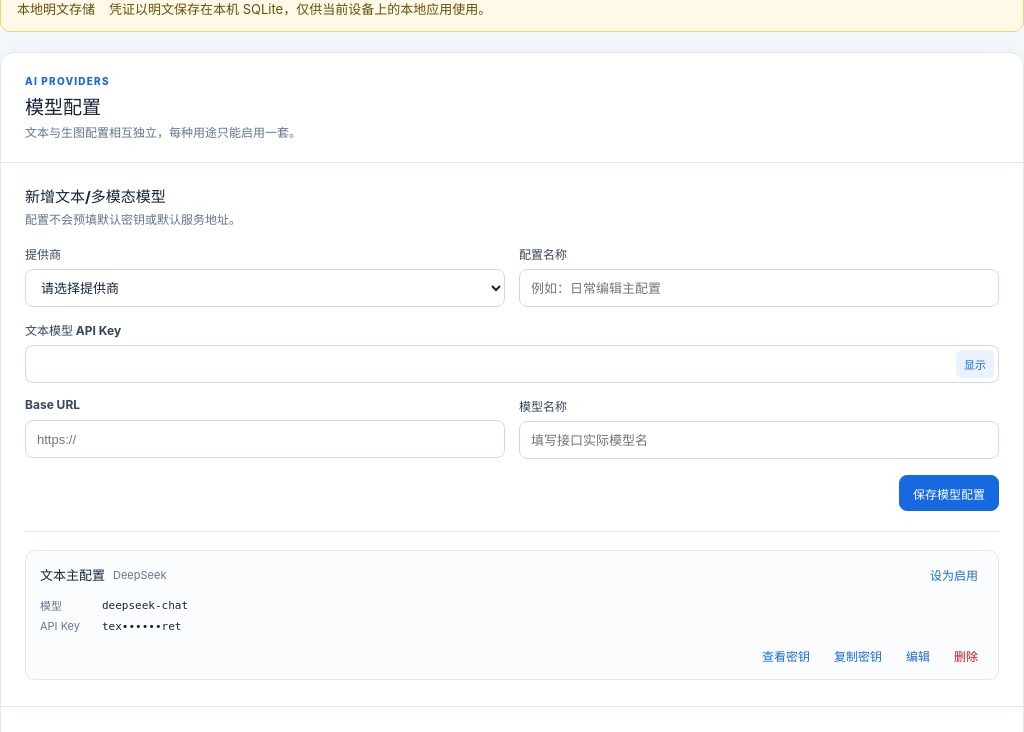
Test case: settings page › switches active text and image configurations independently
Click the button with aria-label "启用 文本主配置".
click(954, 574)  # box [924,565,984,584]
(page scrolled)
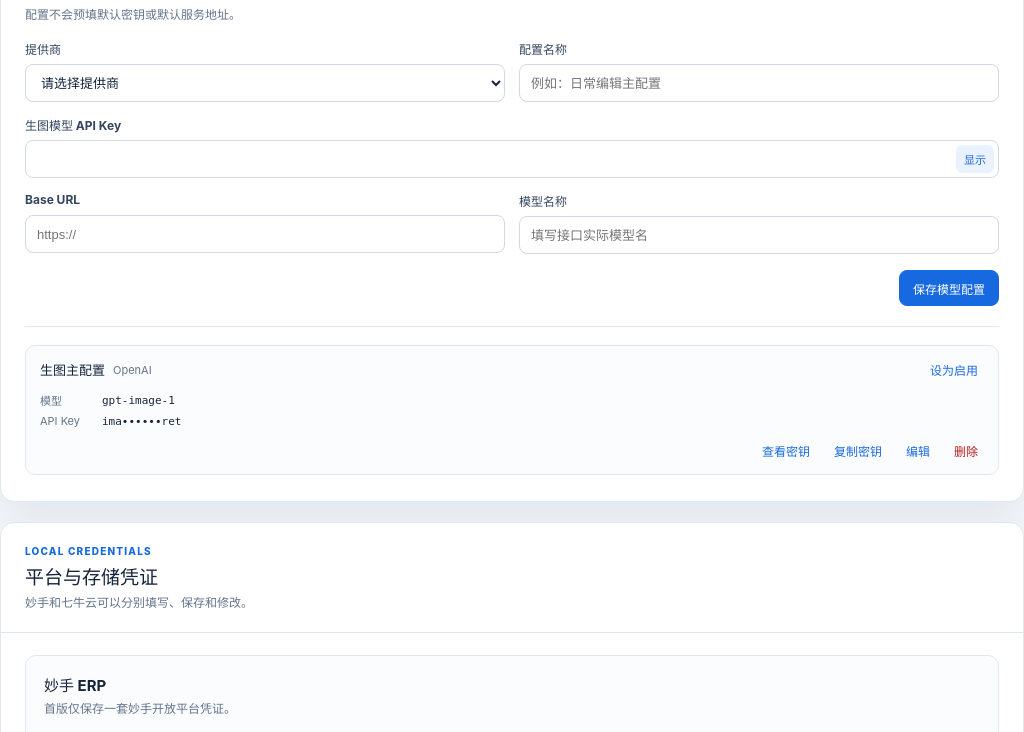
Click the button with aria-label "启用 生图主配置".
click(954, 370)  # box [924,360,984,379]
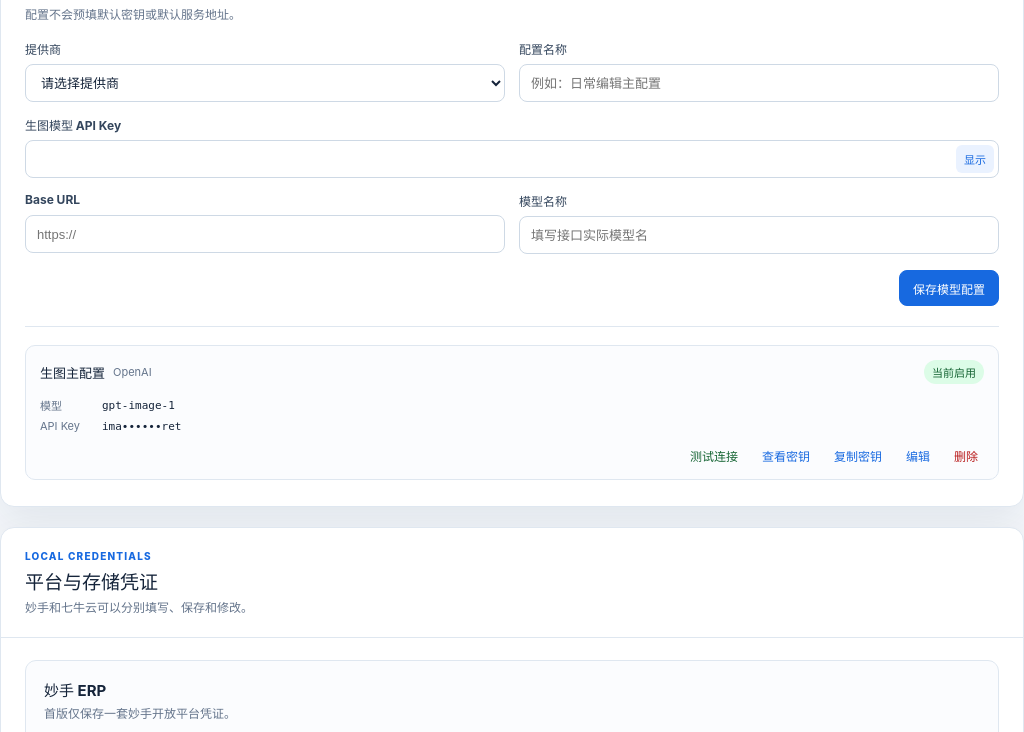
Check: the text "当前启用" is shown 2 times
